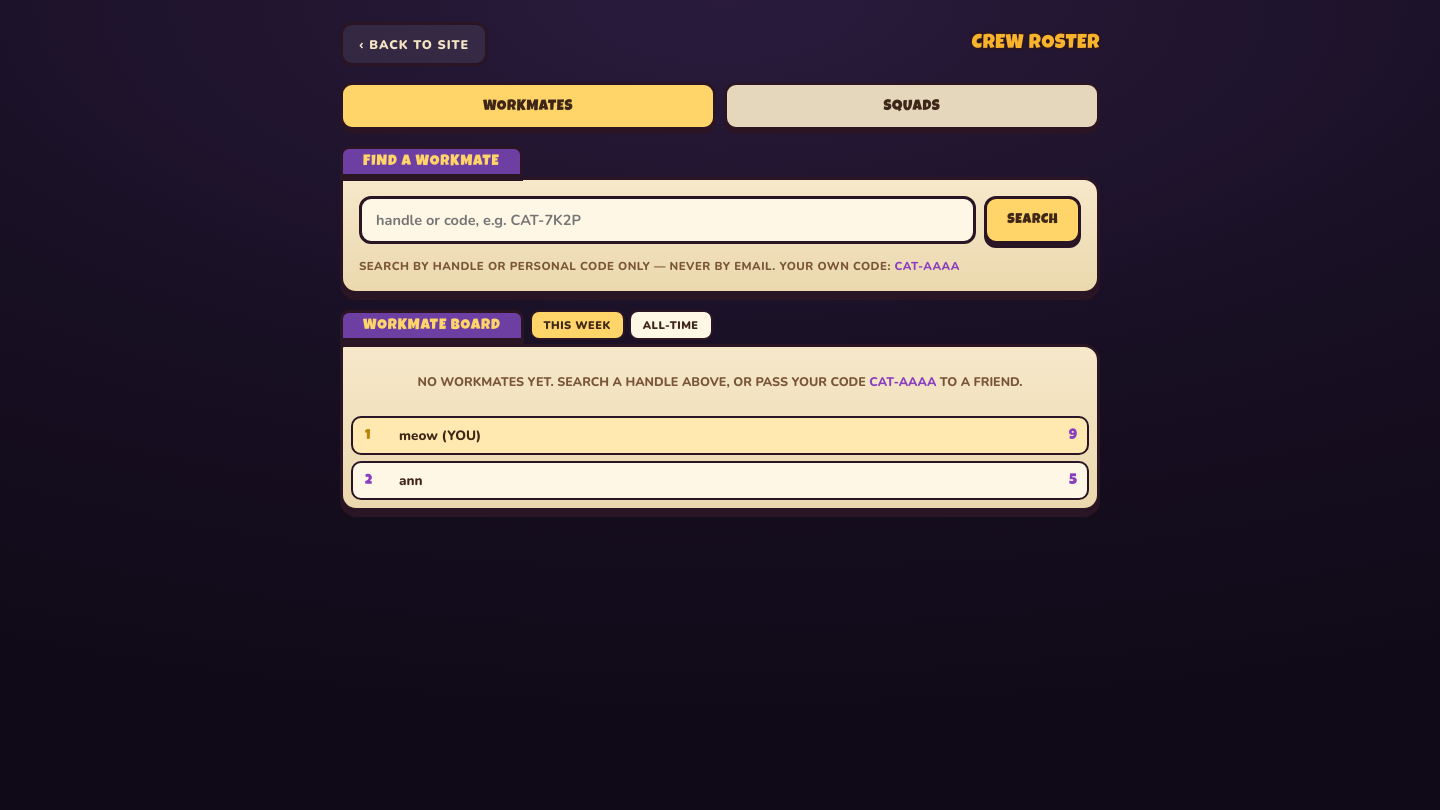
Test case: Crew roster › says so when nobody matches
In the field with placeholder "handle or code, e.g. CAT-7K2P": (668, 220) [359,196,976,244], type "zz"
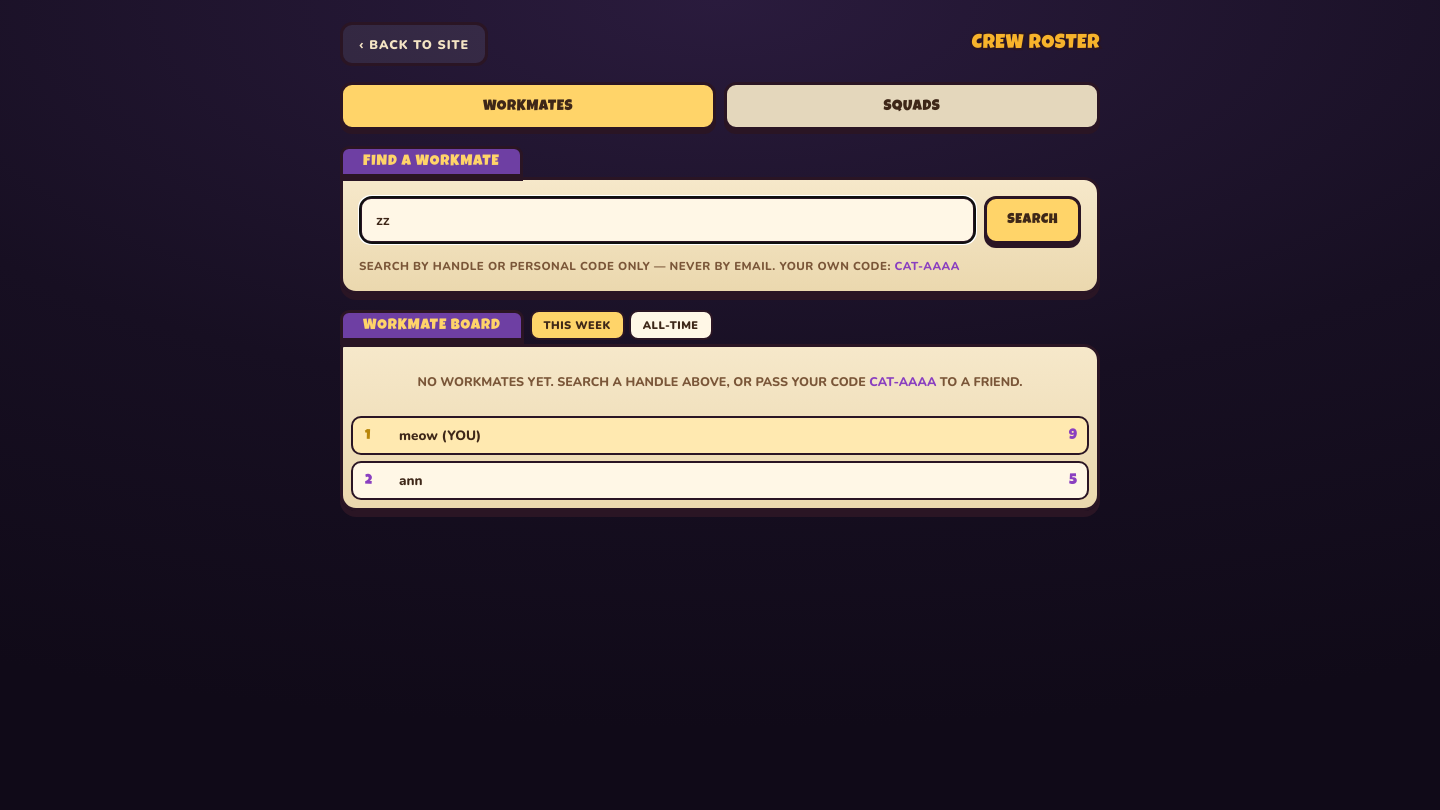
Click the button "SEARCH": (1033, 220) [984,196,1081,244]
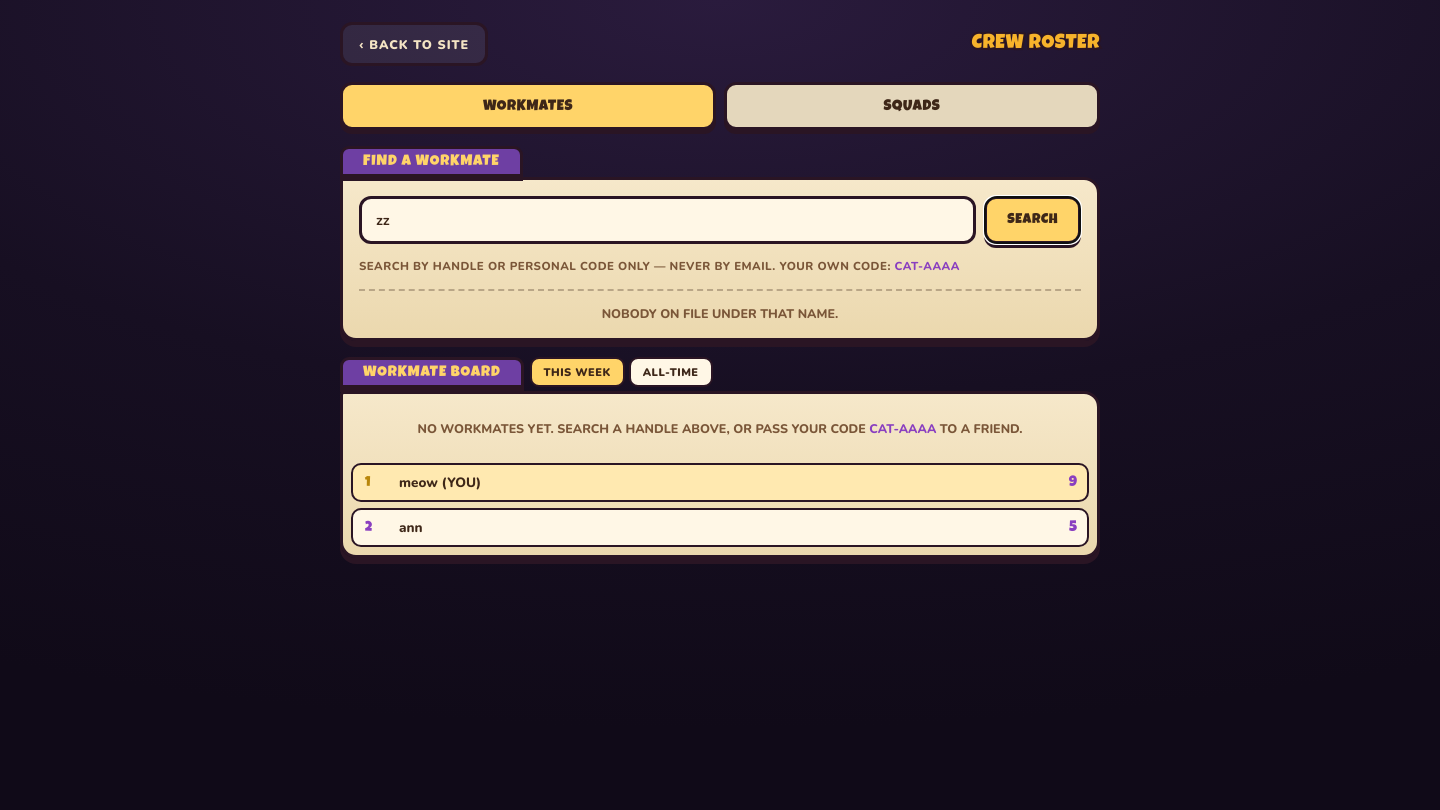
Result: the text "NOBODY ON FILE UNDER THAT NAME." is shown at [359,289,1081,322]
